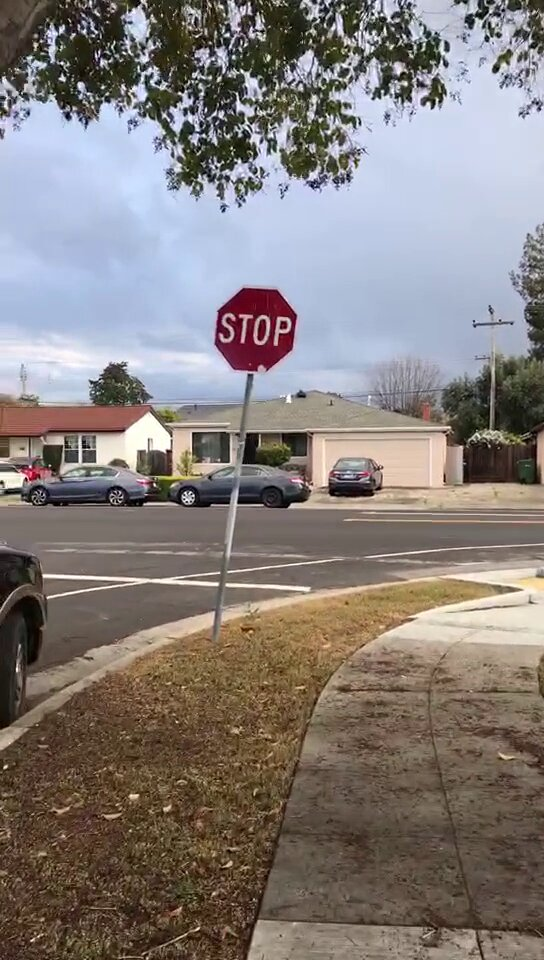stop_sign: (215, 289, 299, 370)
